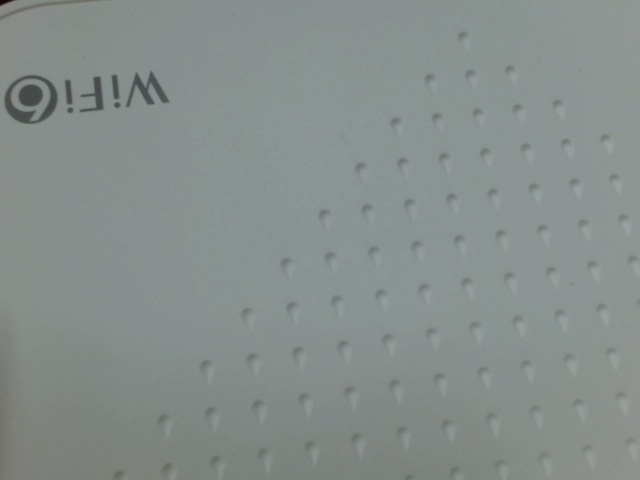AK_ZTEWIFI6: (2, 64, 186, 128)
